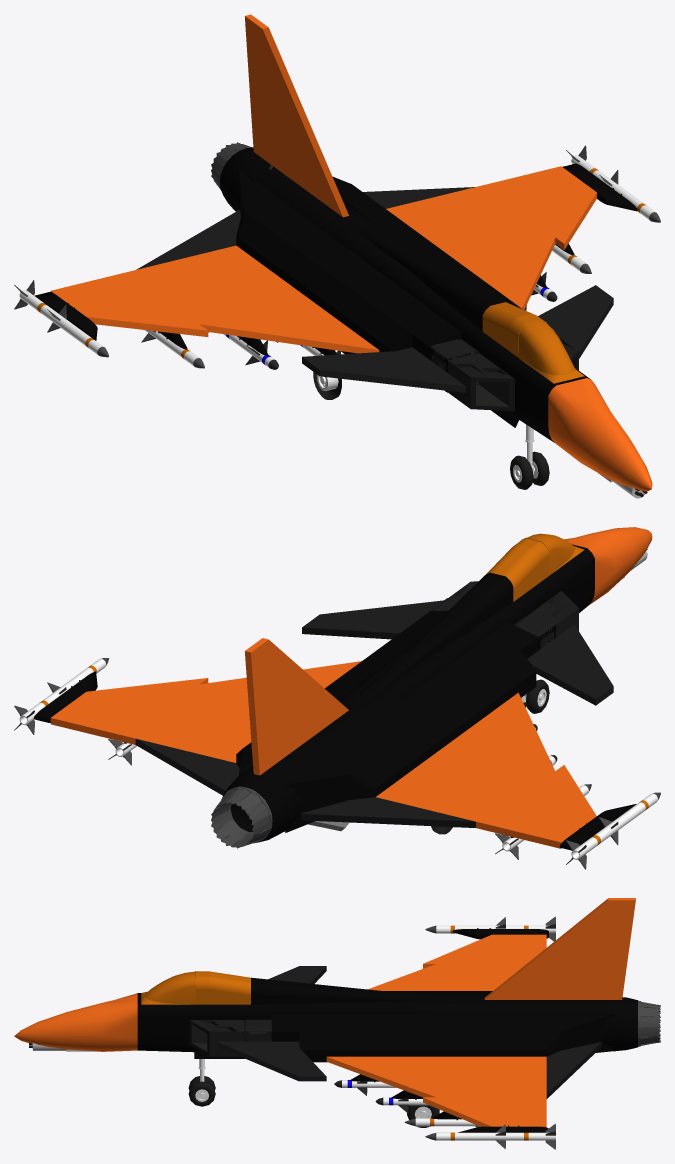
The model's file is Pigpen_export.obj.
The picture shows the model from 3 angles, top to bottom: view 1: azimuth 30°, elevation 25°; view 2: azimuth 150°, elevation 25°; view 3: azimuth 270°, elevation 25°; orthographic projection. The views are drawn at different scales.
Parts seen in each view (by area): view 1: Mesh_103, Mesh_68, Mesh_118, Mesh_1, Mesh_104, Mesh_69, Mesh_85, Mesh_84, Mesh_0, Mesh_81, Mesh_91, Mesh_83 (+22 smaller); view 2: Mesh_103, Mesh_68, Mesh_118, Mesh_84, Body_8, Mesh_85, Mesh_69, Mesh_104, Mesh_5, Mesh_81, Mesh_83, Mesh_80 (+24 smaller); view 3: Mesh_68, Mesh_118, Mesh_1, Mesh_0, Mesh_49, Mesh_48, Mesh_103, Mesh_50, Mesh_5, Mesh_46, Mesh_69, Body_8 (+25 smaller).
Part boxes in pixels (x1=…): Mesh_103: x1=128, y1=245, x2=379, y2=353; Mesh_68: x1=386, y1=185, x2=555, y2=309; Mesh_118: x1=244, y1=14, x2=348, y2=217; Mesh_1: x1=548, y1=378, x2=652, y2=491; Mesh_104: x1=58, y1=283, x2=208, y2=336; Mesh_69: x1=500, y1=171, x2=596, y2=249; Mesh_85: x1=341, y1=266, x2=461, y2=360; Mesh_84: x1=307, y1=269, x2=412, y2=351; Mesh_0: x1=459, y1=320, x2=590, y2=442; Mesh_81: x1=252, y1=201, x2=371, y2=281; Mesh_91: x1=302, y1=351, x2=441, y2=389; Mesh_83: x1=236, y1=210, x2=322, y2=297; Mesh_103: x1=376, y1=692, x2=554, y2=829; Mesh_68: x1=128, y1=661, x2=361, y2=762; Mesh_118: x1=244, y1=638, x2=348, y2=755; Mesh_84: x1=432, y1=651, x2=536, y2=744; Body_8: x1=222, y1=741, x2=325, y2=843; Mesh_85: x1=419, y1=622, x2=538, y2=702; Mesh_69: x1=58, y1=678, x2=208, y2=724; Mesh_104: x1=500, y1=765, x2=596, y2=836; Mesh_5: x1=403, y1=572, x2=513, y2=665; Mesh_81: x1=329, y1=687, x2=448, y2=767; Mesh_83: x1=351, y1=716, x2=446, y2=799; Mesh_80: x1=301, y1=797, x2=475, y2=827; Mesh_68: x1=326, y1=1056, x2=546, y2=1097; Mesh_118: x1=484, y1=898, x2=635, y2=999; Mesh_1: x1=14, y1=993, x2=137, y2=1051; Mesh_0: x1=137, y1=993, x2=274, y2=1052; Mesh_49: x1=299, y1=1031, x2=436, y2=1062; Mesh_48: x1=436, y1=1031, x2=560, y2=1056; Mesh_103: x1=368, y1=964, x2=525, y2=990; Mesh_50: x1=271, y1=1014, x2=408, y2=1041; Mesh_5: x1=251, y1=977, x2=388, y2=1004; Mesh_46: x1=409, y1=1014, x2=546, y2=1031; Mesh_69: x1=423, y1=1097, x2=535, y2=1126; Body_8: x1=550, y1=997, x2=637, y2=1051.
Bounding box in the file's own units: 9.24 × 4.14 × 11.77.
Materials: 1 (1 with a texture image).
